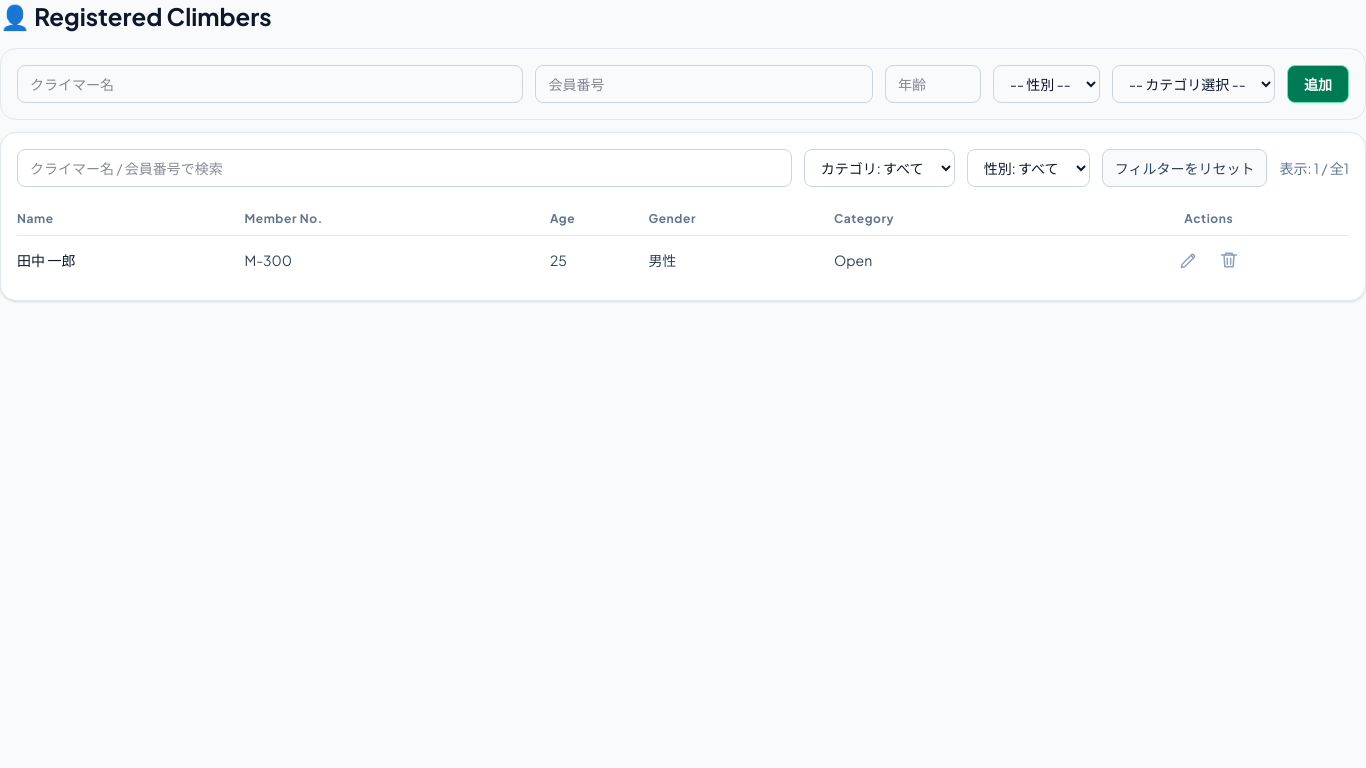
Test case: ParticipantManager › deletes a participant
Expected: the text "田中 一郎" is shown, [17,236,244,284]
Click the button named "削除".
click(1229, 260)  # box [1213,244,1245,276]
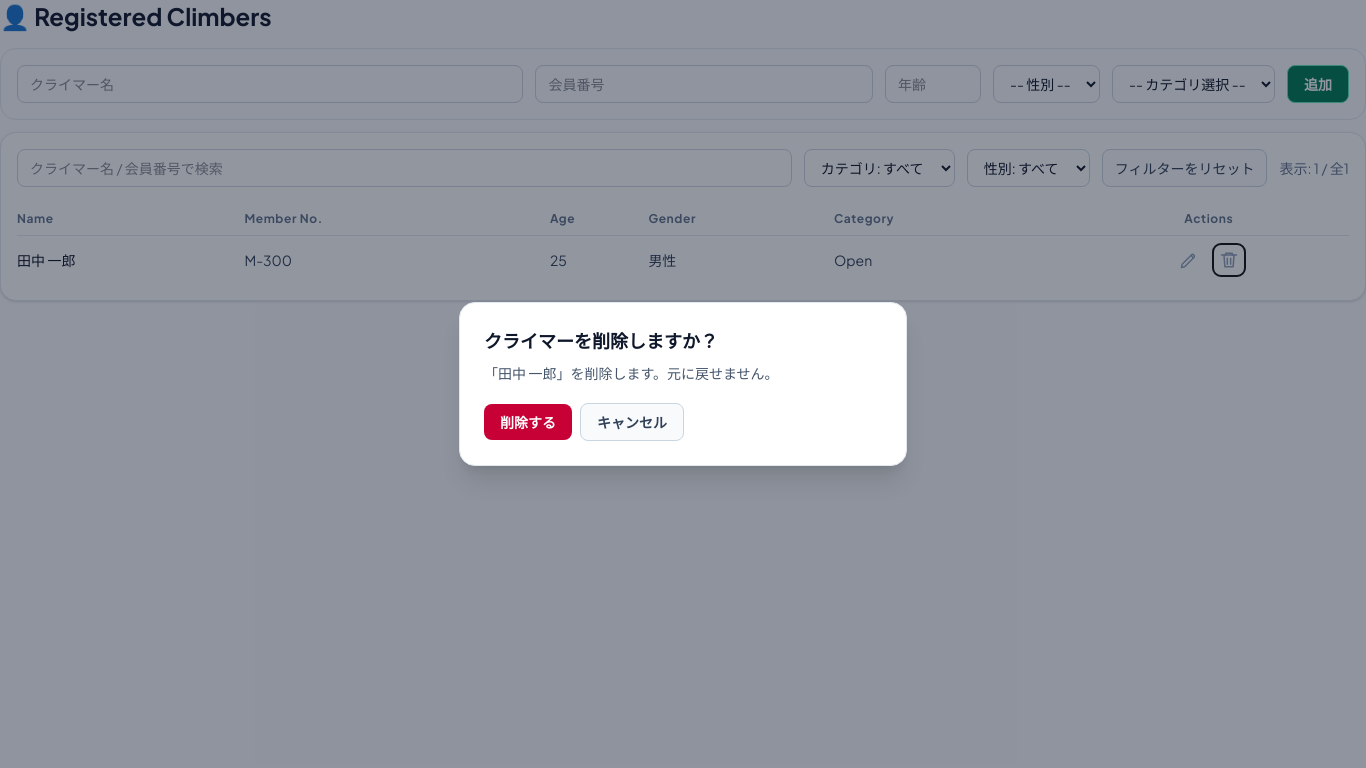
Now the heading "クライマーを削除しますか？" is shown, box [484,329,718,352]
Click the button "削除する".
click(528, 422)  # box [484,404,572,440]
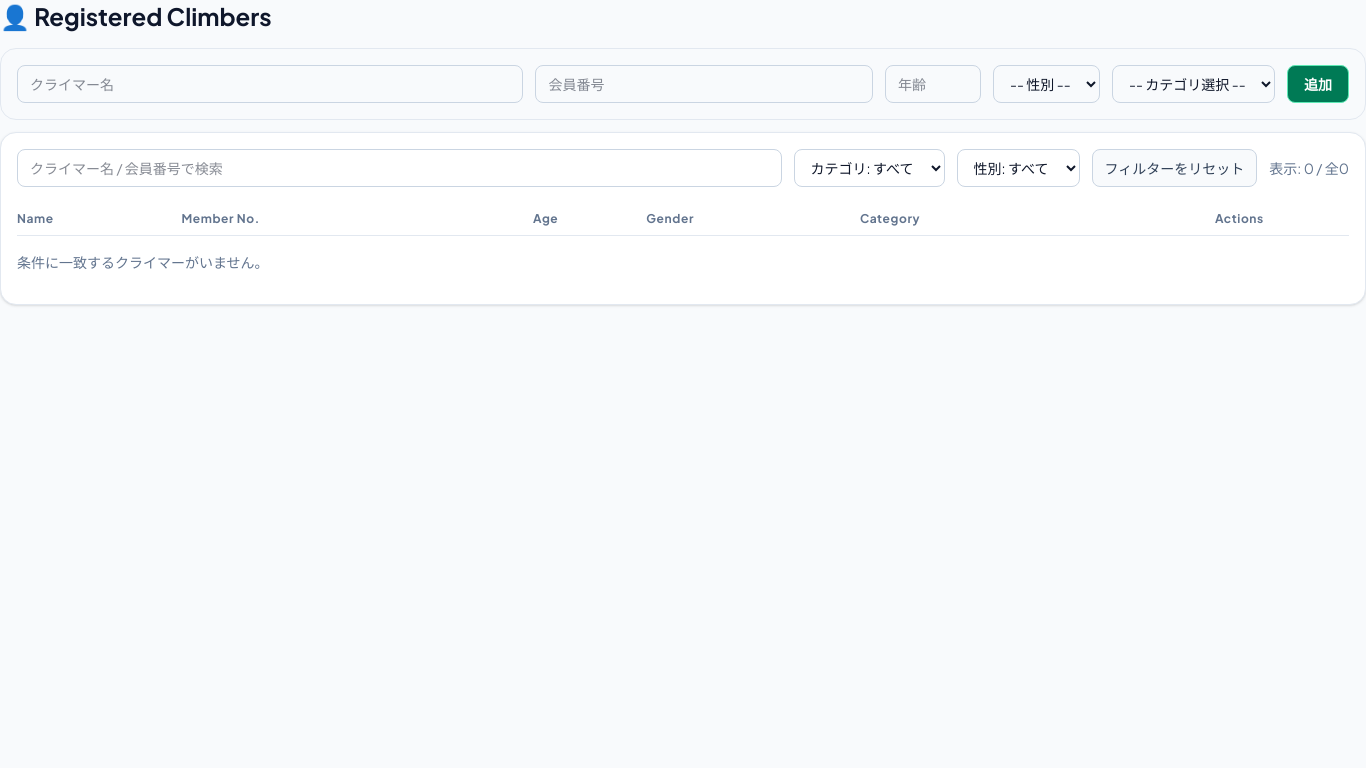
Now the text "田中 一郎" is gone
